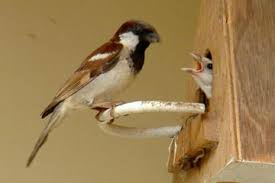hsparrow: (15, 16, 162, 171)
